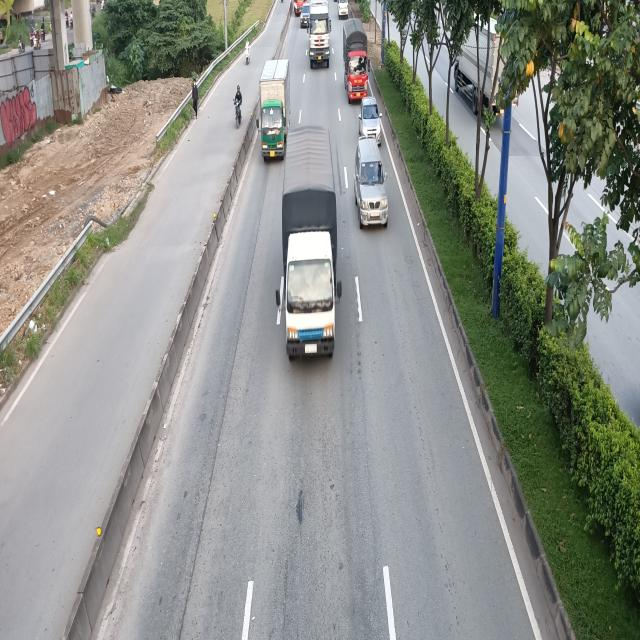car: (353, 142, 387, 231), (358, 96, 382, 142)
container: (307, 0, 332, 66)
truck: (279, 128, 341, 358), (257, 58, 291, 162), (343, 21, 370, 106)
